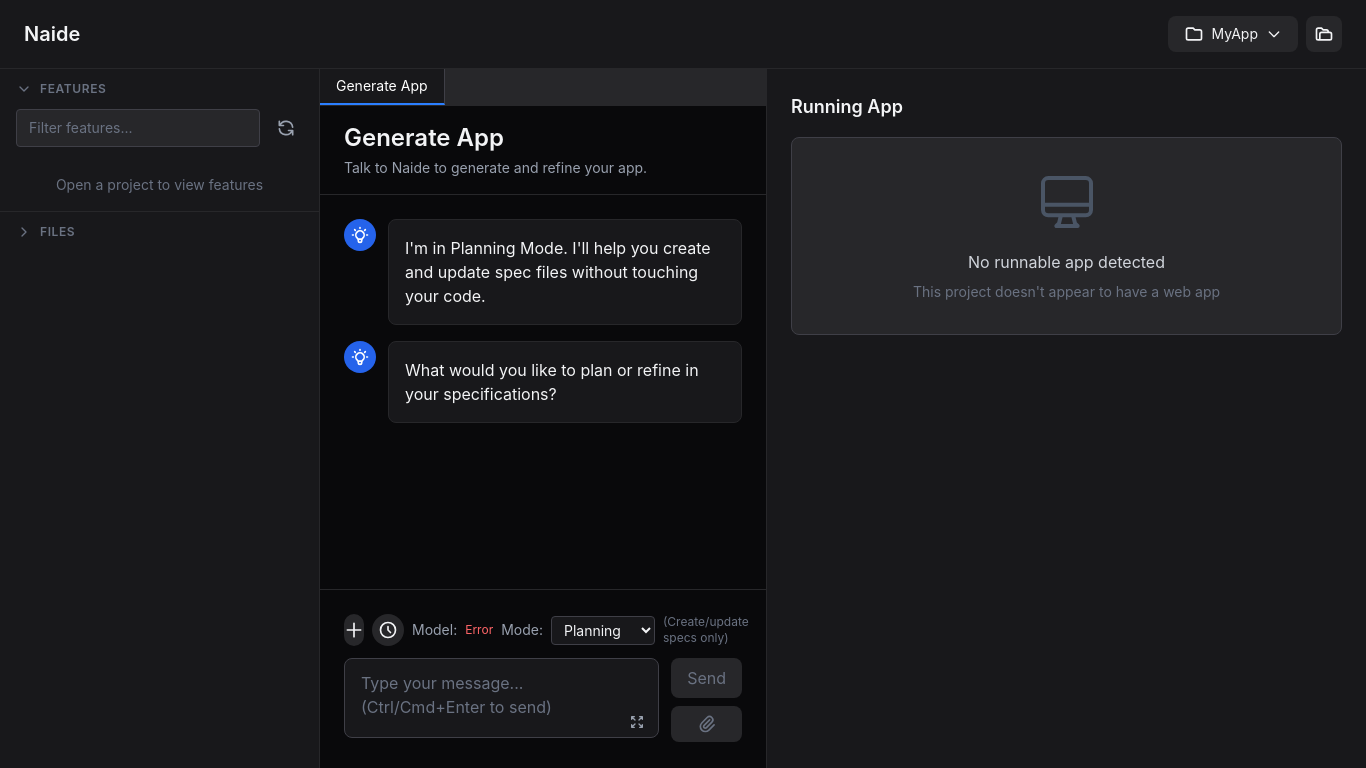
Test: GenerateAppScreen › Stop Button › cancels request when Stop button is clicked
Note: Type and send a message
In the text box with placeholder "Type your message... (Ctrl/Cmd+Enter to send)": (502, 698) [344,658,659,738], type "Test"
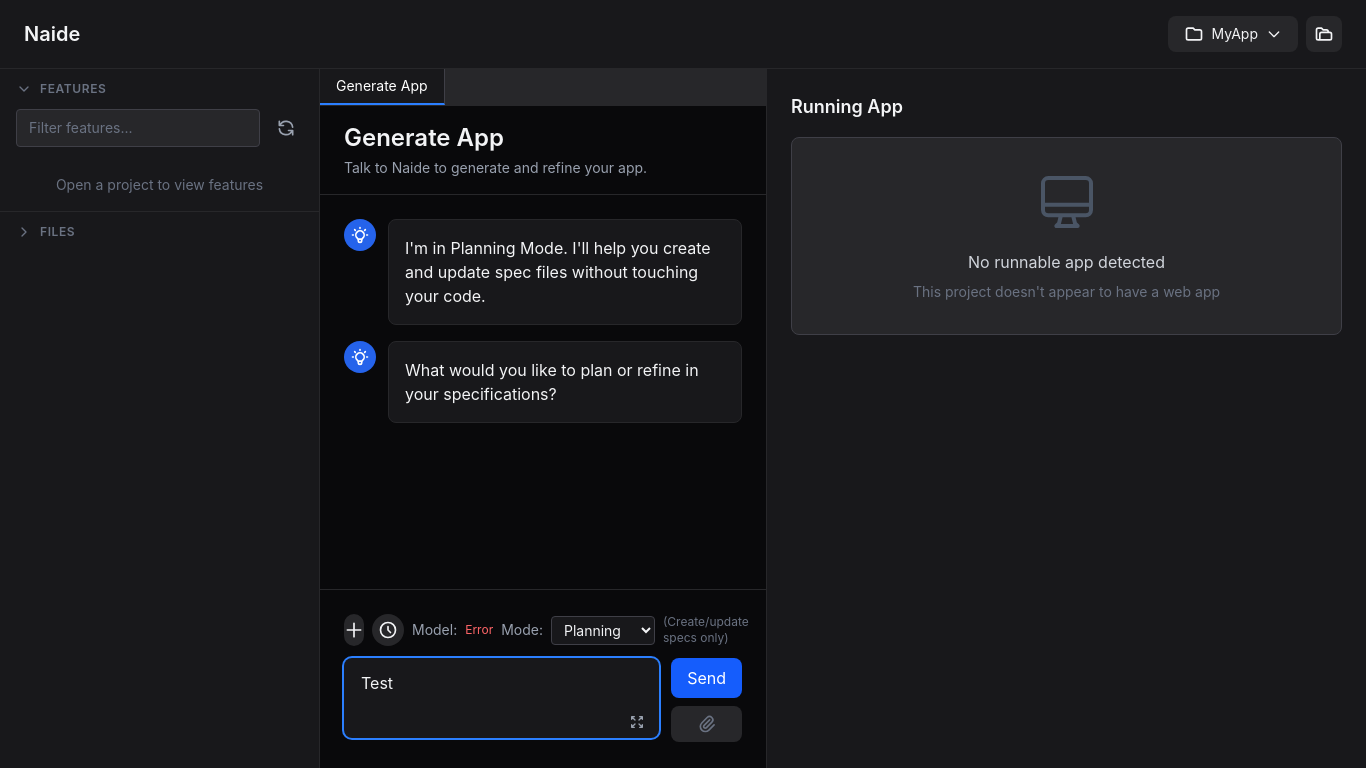
Click the button "Send": (707, 678) [671,658,742,698]
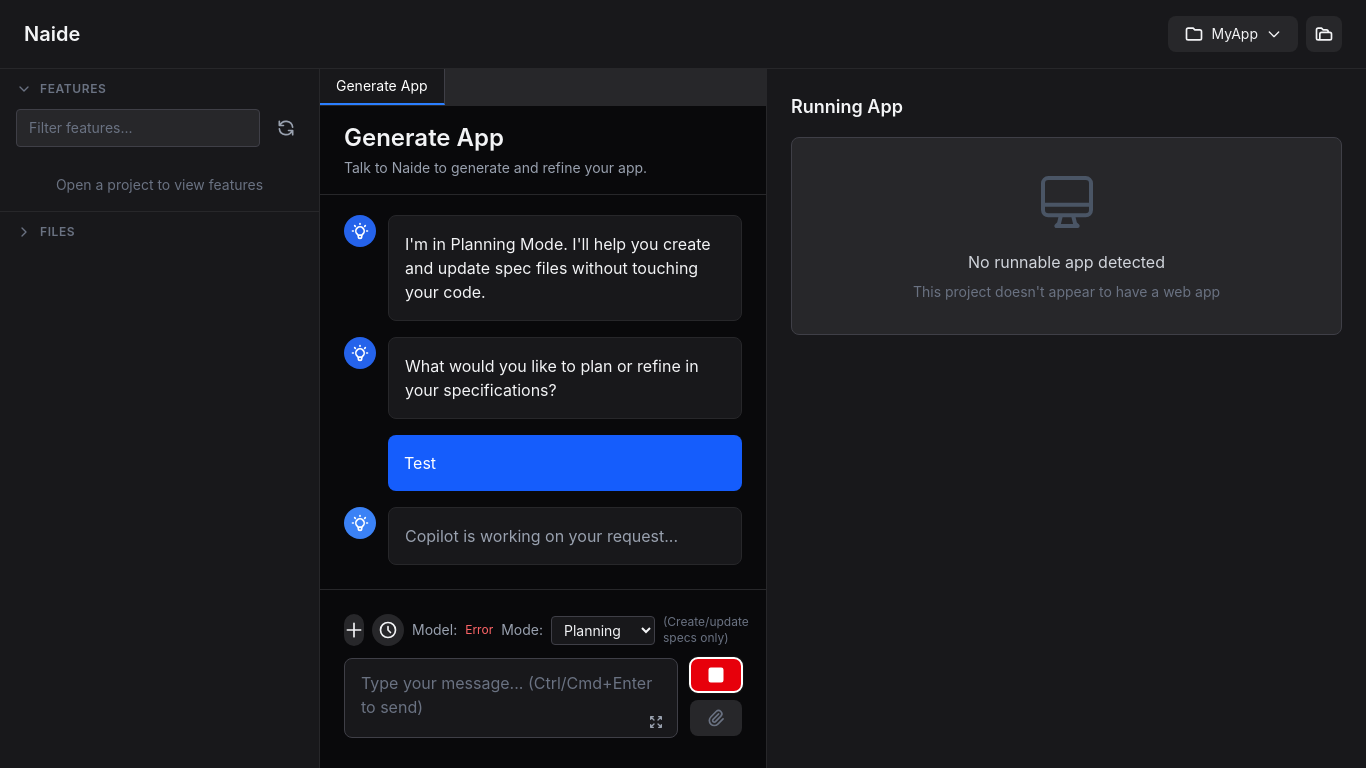
Note: Click Stop button
Click the button titled "Stop request": (716, 675) [690,658,742,692]
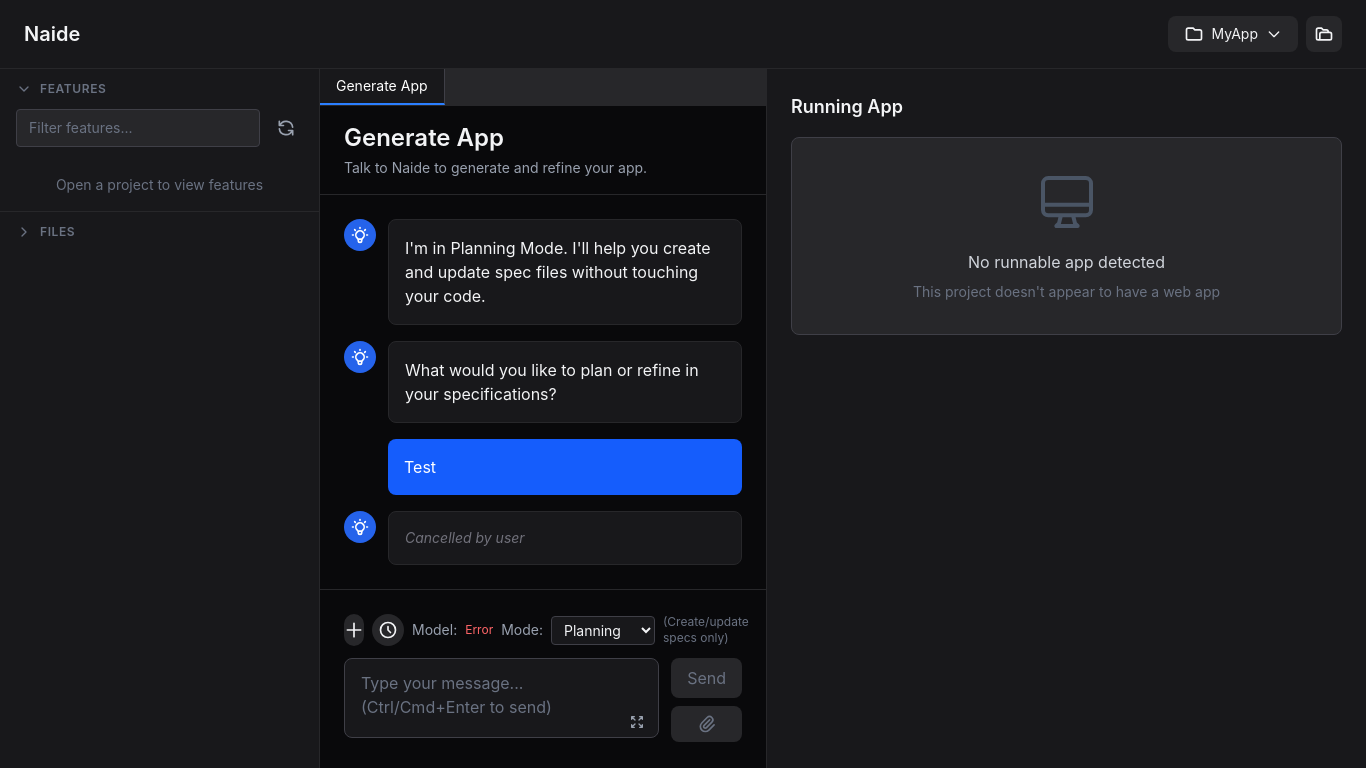
Now the text "Cancelled by user" is shown, box [405,529,525,546]
Now the button "Send" is shown, box [671,658,742,698]
